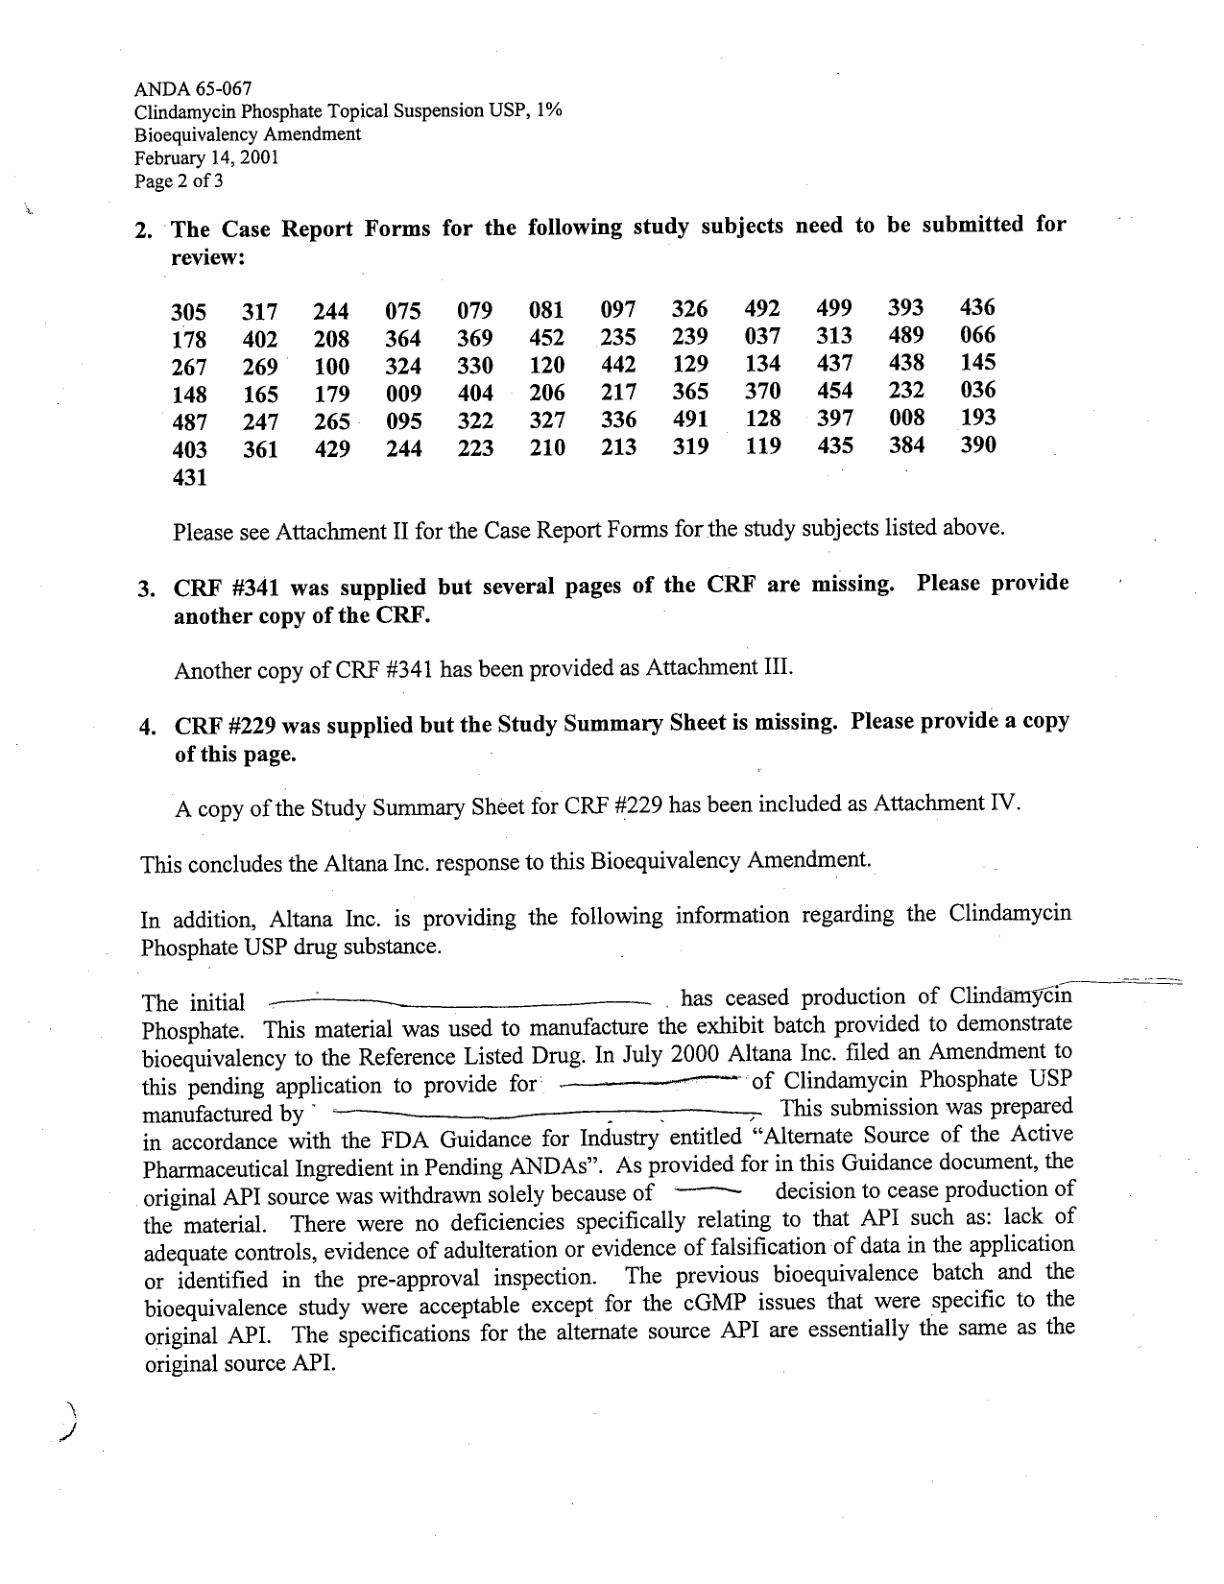nolines: (165, 296, 1005, 490)
